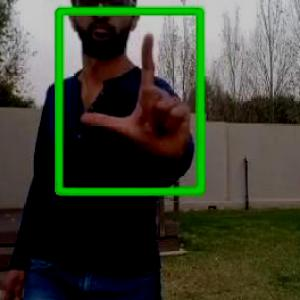land_hand: (76, 28, 194, 164)
